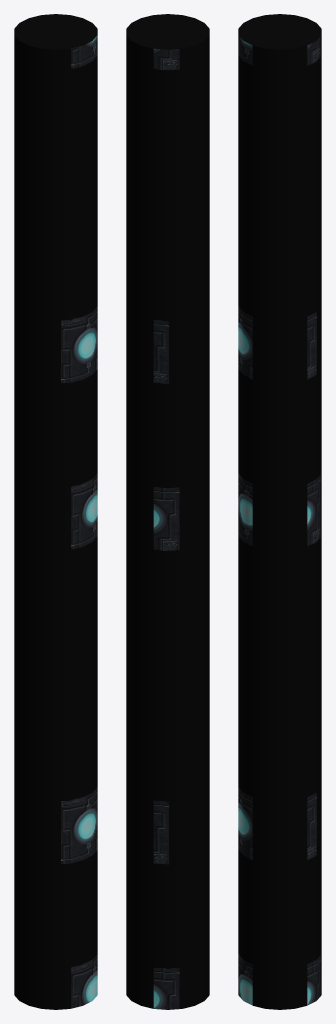
The model's file is Centro 3.FBX.
3 renders of one model, left to right at view 1: azimuth 30°, elevation 25°; view 2: azimuth 210°, elevation 25°; view 3: azimuth 270°, elevation 25°, orthographic.
Visible parts, largest first — view 1: Cylinder001; view 2: Cylinder001; view 3: Cylinder001.
Part boxes in pixels (x1,y1,x2,y2): Cylinder001: [14, 14, 97, 1009]; Cylinder001: [126, 14, 209, 1009]; Cylinder001: [238, 14, 321, 1009].
Bounding box in the file's own units: 3400 × 42600 × 3348.
